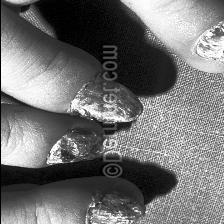Toxin: (51, 124, 91, 166), (84, 192, 134, 224), (198, 6, 224, 64)
